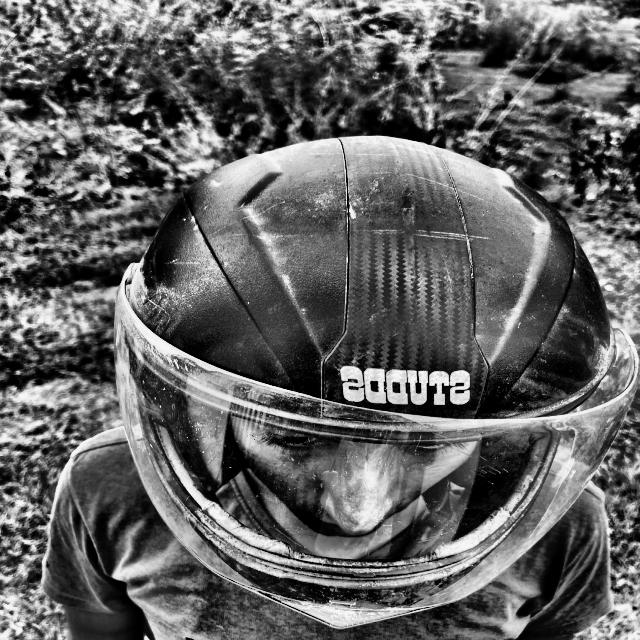Helmet: (100, 142, 640, 602)
